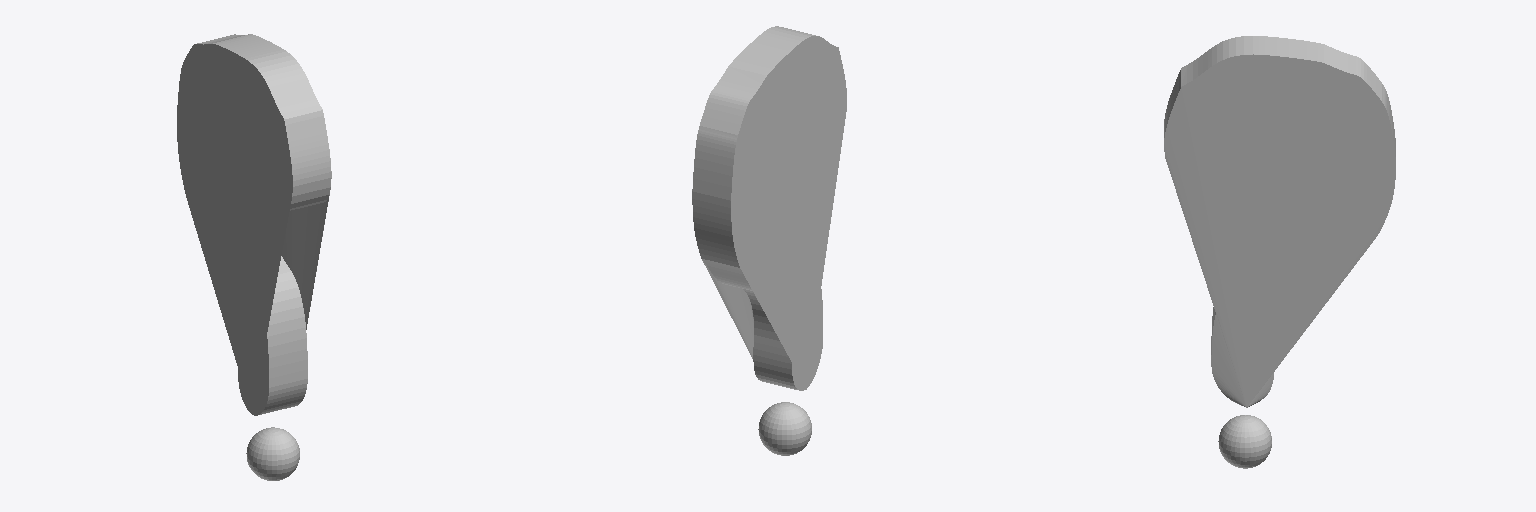
File: question.obj
The picture shows the model from 3 angles: view 1: azimuth 30°, elevation 25°; view 2: azimuth 150°, elevation 25°; view 3: azimuth 270°, elevation 25°; orthographic projection.
Size of the model in its own units: 0.221 by 1.9 by 0.9522.